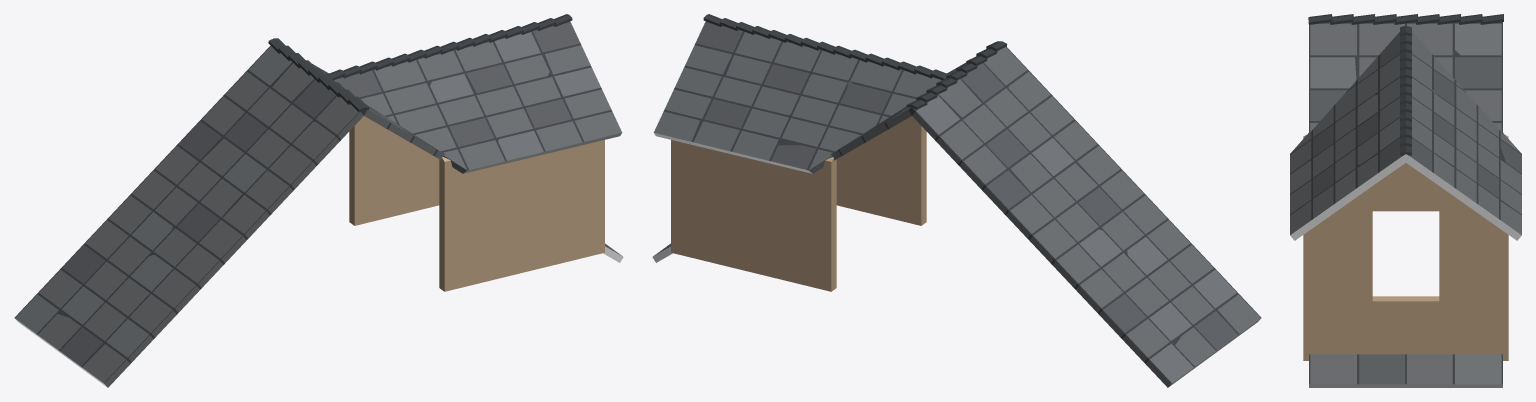
File: Roof2_C8_05.fbx
3 renders of one model, left to right at view 1: azimuth 30°, elevation 25°; view 2: azimuth 150°, elevation 25°; view 3: azimuth 270°, elevation 25°, orthographic. The views are drawn at different scales.
Visible parts, largest first — view 1: Roof2_C8_05; view 2: Roof2_C8_05; view 3: Roof2_C8_05.
Boxes of the visible parts, x1=… form: Roof2_C8_05: x1=14, y1=14, x2=623, y2=387; Roof2_C8_05: x1=652, y1=14, x2=1261, y2=387; Roof2_C8_05: x1=1290, y1=14, x2=1521, y2=387.
Bounding box in the file's own units: 833 × 339 × 299.
